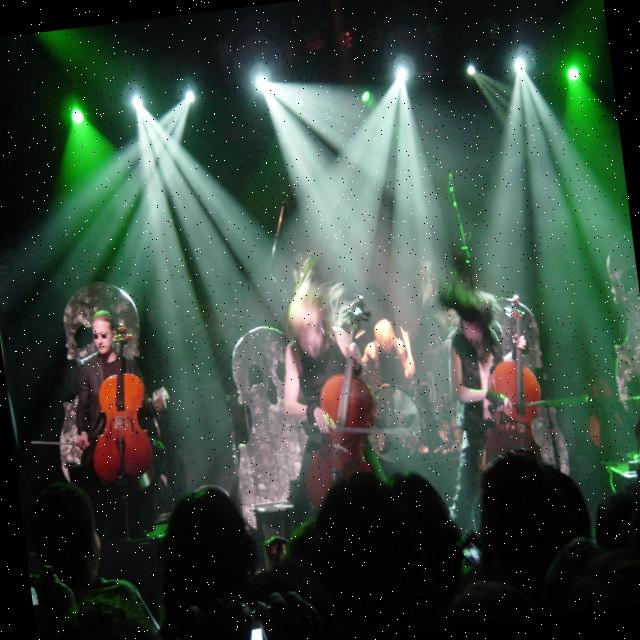cello: (280, 292, 398, 522), (464, 288, 566, 466), (75, 316, 162, 501)
